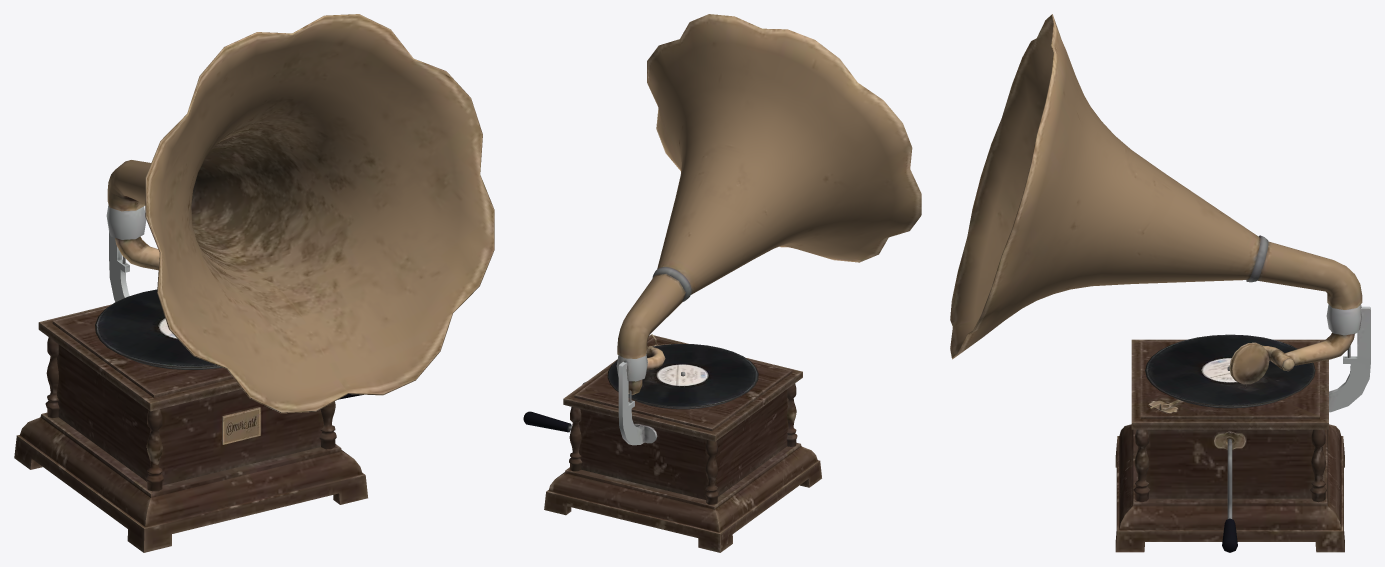
File: vintage_gramophone.glb
3 views of the same model, side by side, from view 1: azimuth 30°, elevation 25°; view 2: azimuth 150°, elevation 25°; view 3: azimuth 270°, elevation 25° (orthographic). The views are drawn at different scales.
Visible parts, largest first — view 1: Plane.001, Cube.001, Cube.003, Cube.002, Cylinder.003, Plane.007, Plane.003, Cylinder.002, Plane; view 2: Plane.001, Cube.001, Cube.003, Cylinder.003, Cube.002, Plane, Cylinder.001, Plane.003; view 3: Plane.001, Cube.001, Cube.003, Cylinder.003, Plane, Cube.002, Cylinder.002, Cylinder.006, Plane.003.
Boxes of the visible parts, x1,y1,x2,y2 form: Plane.001: (145, 14, 494, 413); Cube.001: (14, 304, 367, 552); Cube.003: (95, 289, 218, 367); Cube.002: (45, 337, 336, 491); Cylinder.003: (107, 160, 151, 211); Plane.007: (222, 407, 260, 444); Plane.003: (106, 204, 146, 239); Cylinder.002: (115, 236, 159, 270); Plane: (109, 231, 129, 301); Plane.001: (647, 14, 921, 294); Cube.001: (544, 335, 821, 552); Cube.003: (607, 344, 758, 407); Cylinder.003: (617, 273, 686, 358); Cube.002: (569, 383, 797, 504); Plane: (618, 361, 657, 445); Cylinder.001: (523, 411, 571, 432); Plane.003: (616, 354, 647, 381); Plane.001: (950, 14, 1260, 359); Cube.001: (1115, 339, 1344, 552); Cube.003: (1145, 334, 1315, 406); Cylinder.003: (1257, 241, 1362, 309); Plane: (1329, 306, 1370, 412); Cube.002: (1133, 429, 1326, 502); Cylinder.002: (1270, 332, 1354, 371); Cylinder.006: (1229, 342, 1269, 384); Plane.003: (1326, 304, 1361, 335).
Size of the model in its own units: 93.84 by 128 by 105.
1 material, 1 textured.
